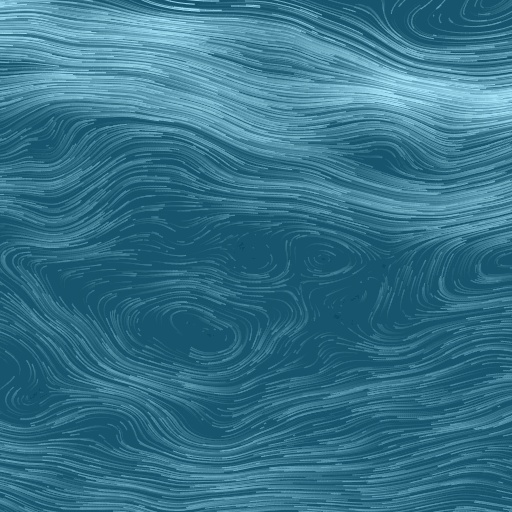eddy: (119, 290, 263, 375), (281, 230, 365, 286)
